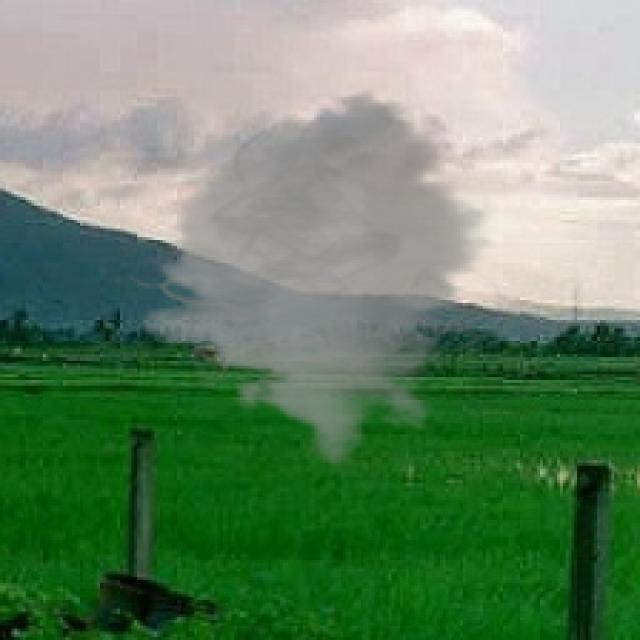Smoke: (123, 89, 523, 468)
